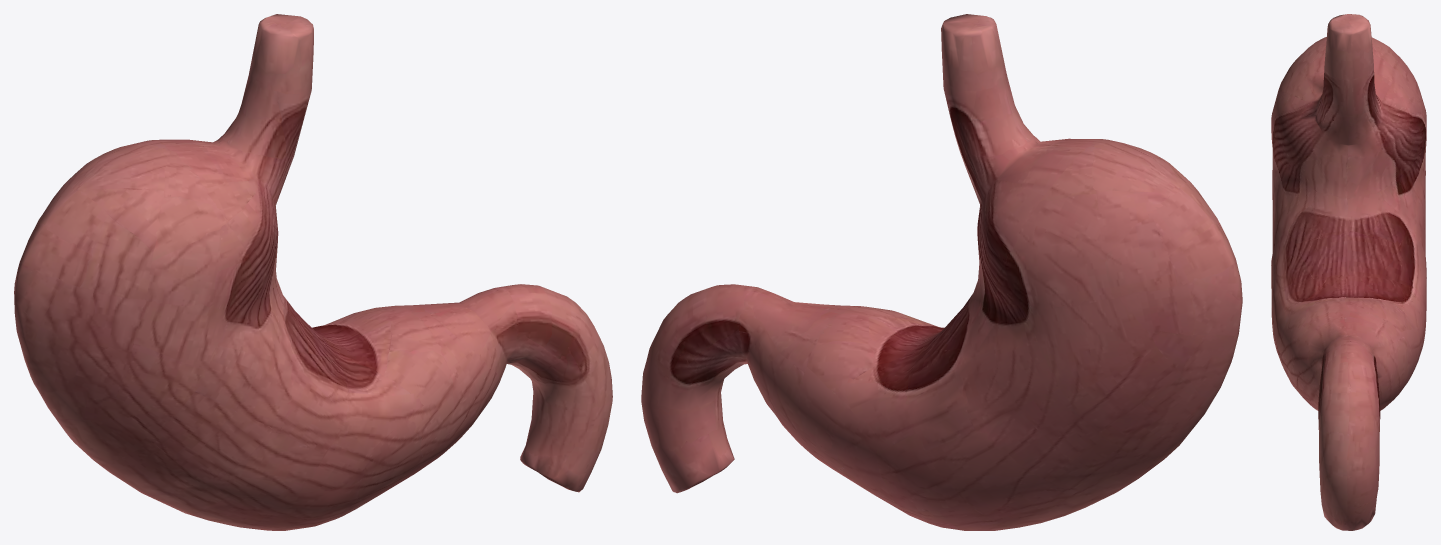
Rendered from gut2.glb.
3 views of the same model, side by side, from view 1: azimuth 30°, elevation 25°; view 2: azimuth 150°, elevation 25°; view 3: azimuth 270°, elevation 25° (orthographic). The views are drawn at different scales.
Size of the model in its own units: 1.9 by 1.64 by 0.5722.
1 material, 1 textured.
